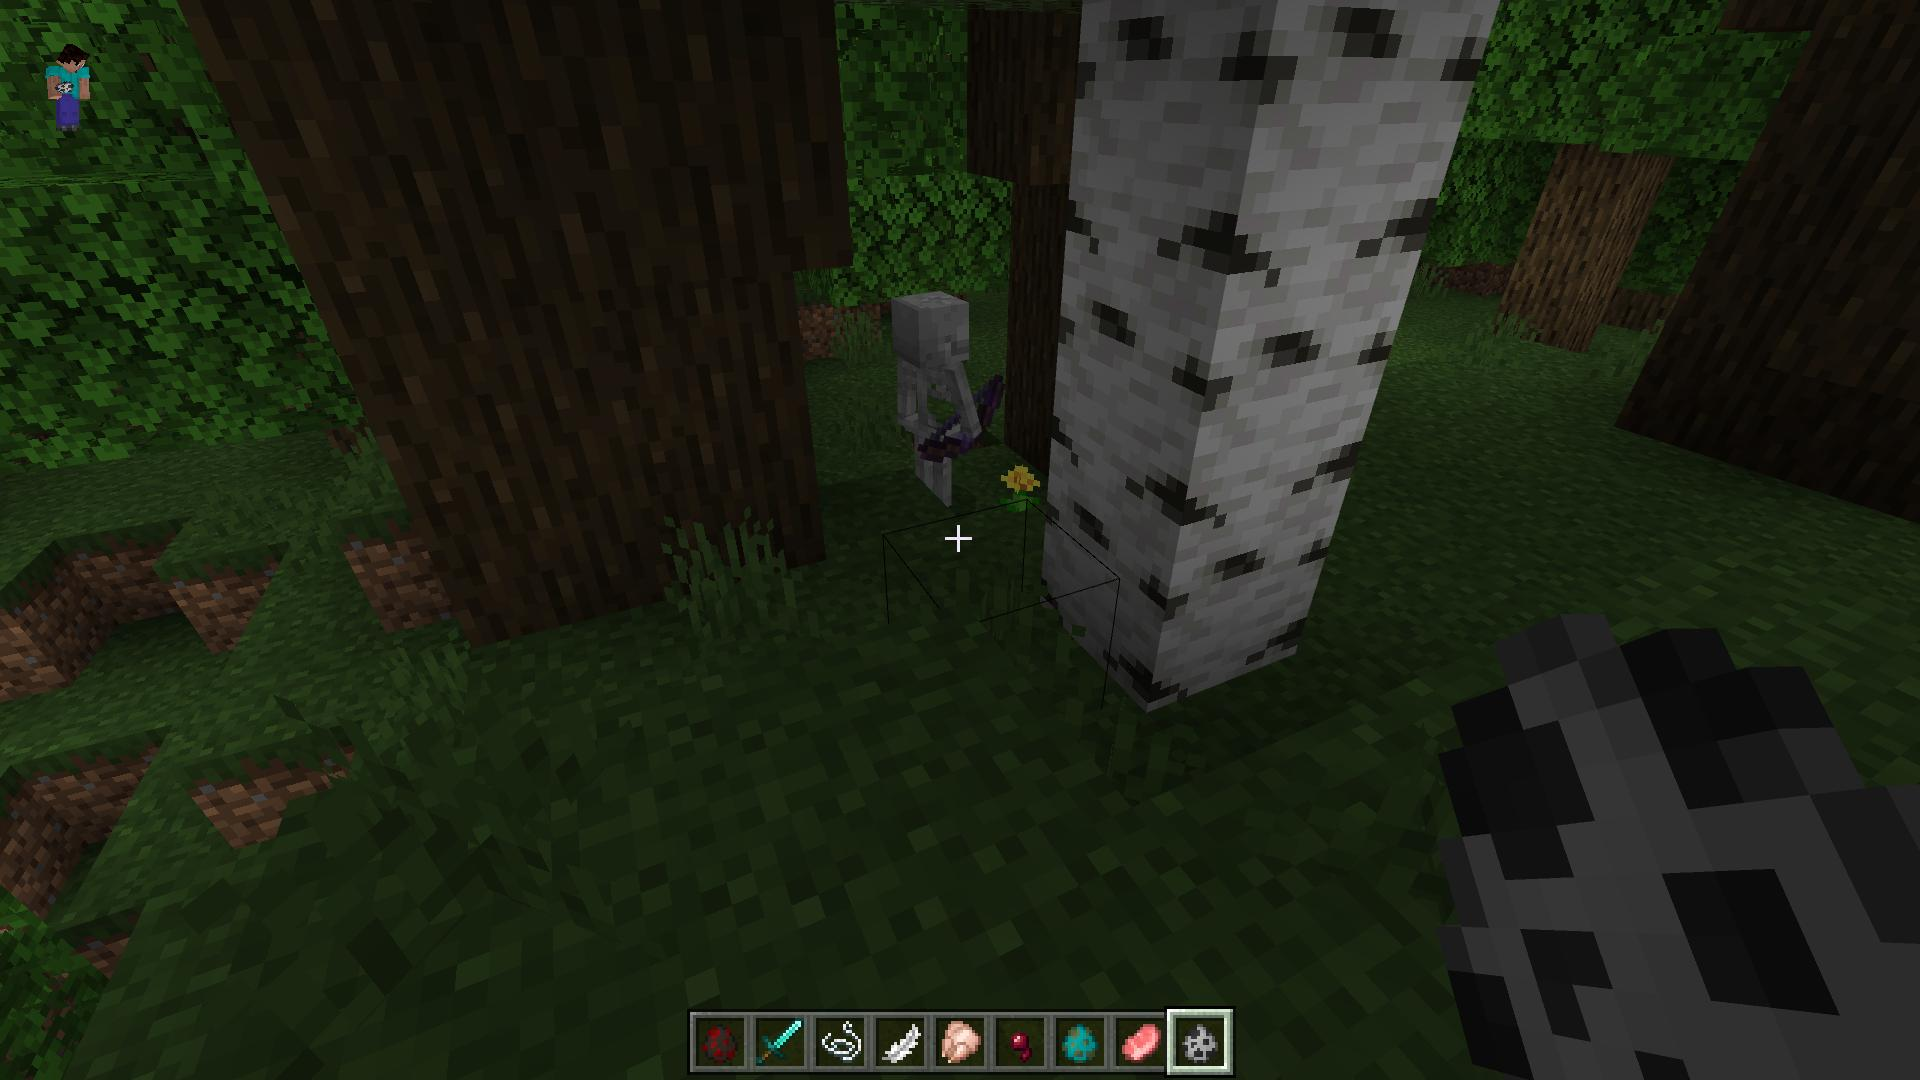skeleton: (890, 285, 1004, 506)
